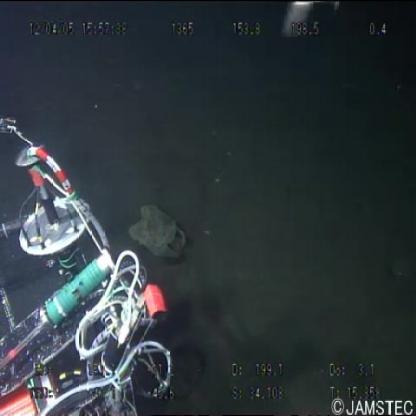Rov: (1, 111, 178, 416)
Rác: (127, 201, 188, 267)
